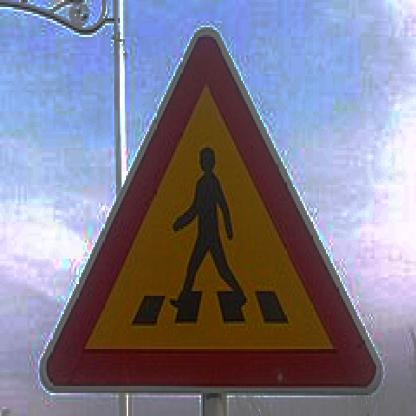Pedestrian Crossing: (42, 27, 370, 390)
